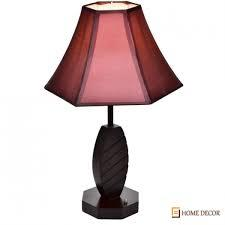Lamp: (37, 0, 185, 221)
